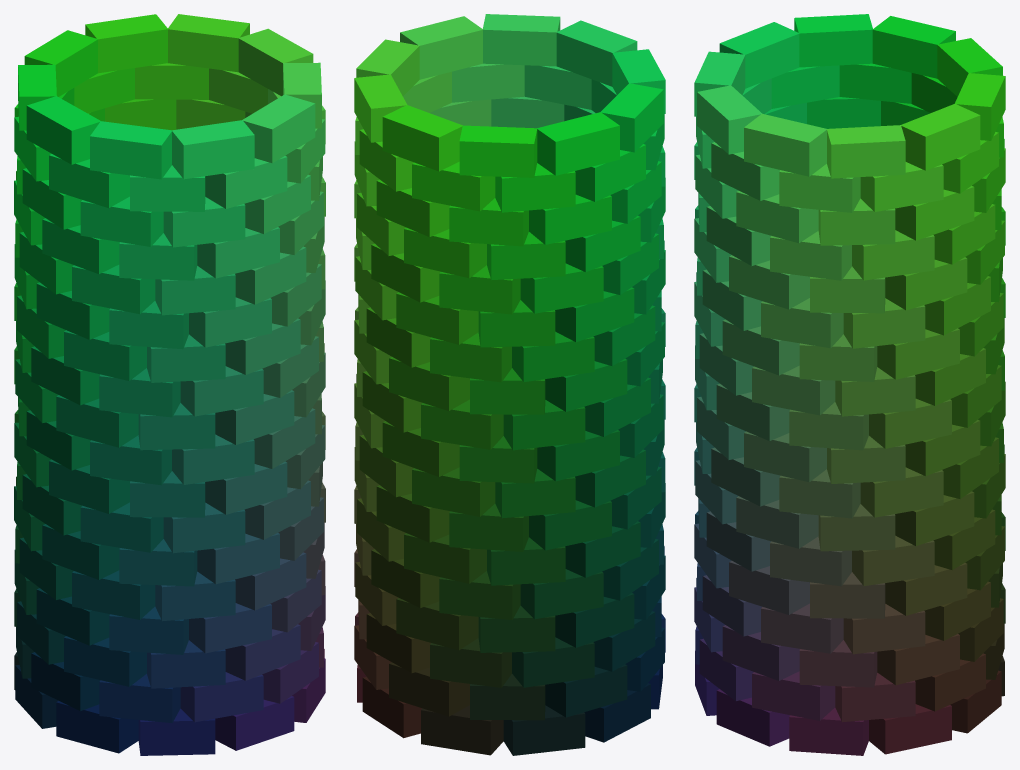
File: TowerCollapse_mesh.fbx
3 renders of one model, left to right at view 1: azimuth 30°, elevation 25°; view 2: azimuth 150°, elevation 25°; view 3: azimuth 270°, elevation 25°, orthographic.
Parts seen in each view (by area): view 1: MESH; view 2: MESH; view 3: MESH.
Part boxes in pixels (x1,y1,x2,y2): MESH: [14, 14, 325, 755]; MESH: [354, 14, 665, 755]; MESH: [694, 14, 1005, 755].
Bounding box in the file's own units: 831 × 1800 × 831.
